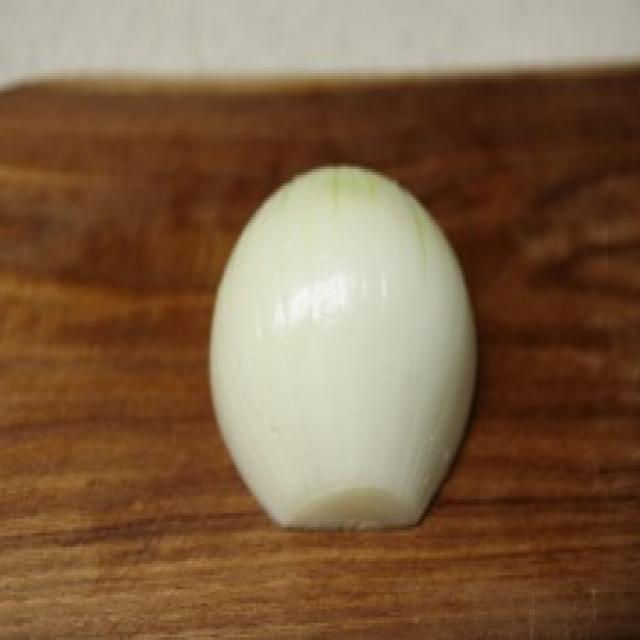onion: (201, 144, 496, 546)
